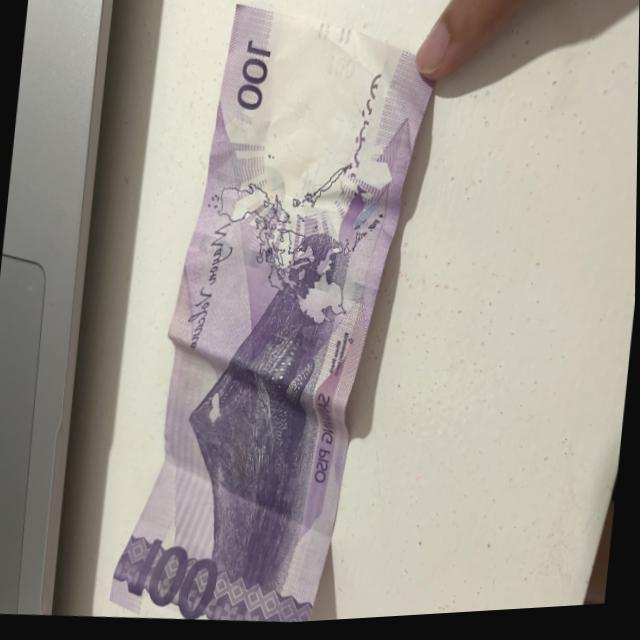100_whale: (260, 319, 320, 469)
100_whale_watermark: (335, 187, 366, 258)
value_watermark: (321, 56, 353, 90)
